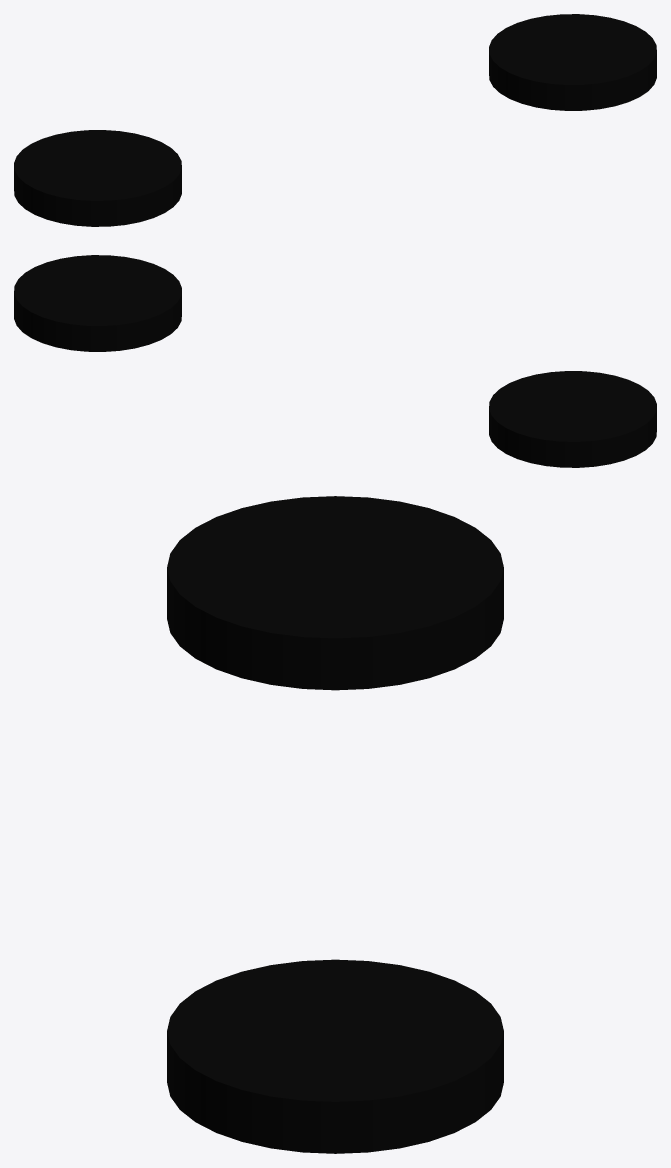
File: stages_dance.glb
3 renders of one model, top to bottom at view 1: azimuth 30°, elevation 25°; view 2: azimuth 150°, elevation 25°; view 3: azimuth 270°, elevation 25°, orthographic. The views are drawn at different scales.
Parts seen in each view (by area): view 1: Stages Dance; view 2: Stages Dance; view 3: Stages Dance.
Part boxes in pixels (x1=…): Stages Dance: x1=14, y1=14, x2=656, y2=226; Stages Dance: x1=14, y1=255, x2=656, y2=467; Stages Dance: x1=167, y1=496, x2=503, y2=1153.
Size of what is drawn, in the model's own units: 22.96 by 0.9168 by 5.4.
Materials: 1 (1 with a texture image).
